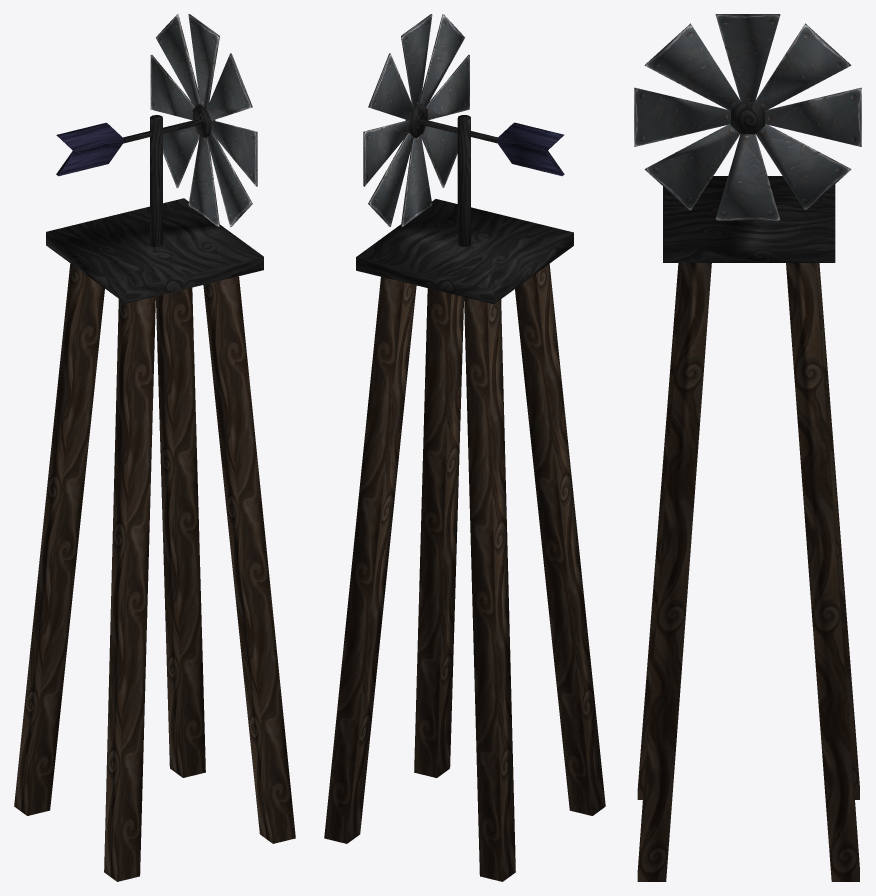
The model's file is Windmill.fbx.
3 views of the same model, side by side, from view 1: azimuth 30°, elevation 25°; view 2: azimuth 150°, elevation 25°; view 3: azimuth 270°, elevation 25° (orthographic). The views are drawn at different scales.
Visible parts, largest first — view 1: WindMill.000; view 2: WindMill.000; view 3: WindMill.000.
Boxes of the visible parts, x1,y1,x2,y2 form: WindMill.000: (14,14,295,881); WindMill.000: (324,14,605,881); WindMill.000: (634,14,861,881).
Bounding box in the file's own units: 5.42 × 21.73 × 5.28.
